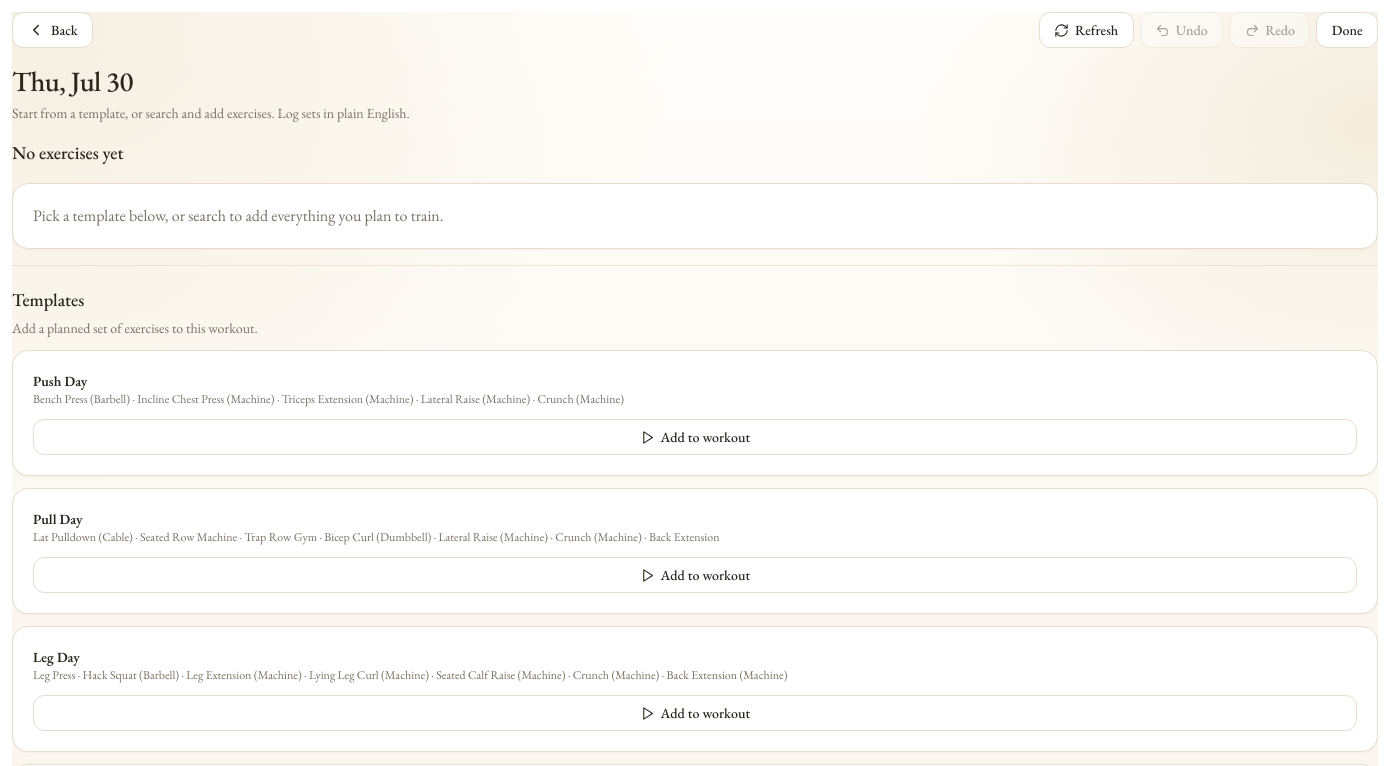
active session flow › applies an example template onto a past-day session
expect the text "Push Day" is shown: met, box [33,372,87,390]
Click the button "Add to workout" below "Push Day": (695, 437) [33,419,1357,455]
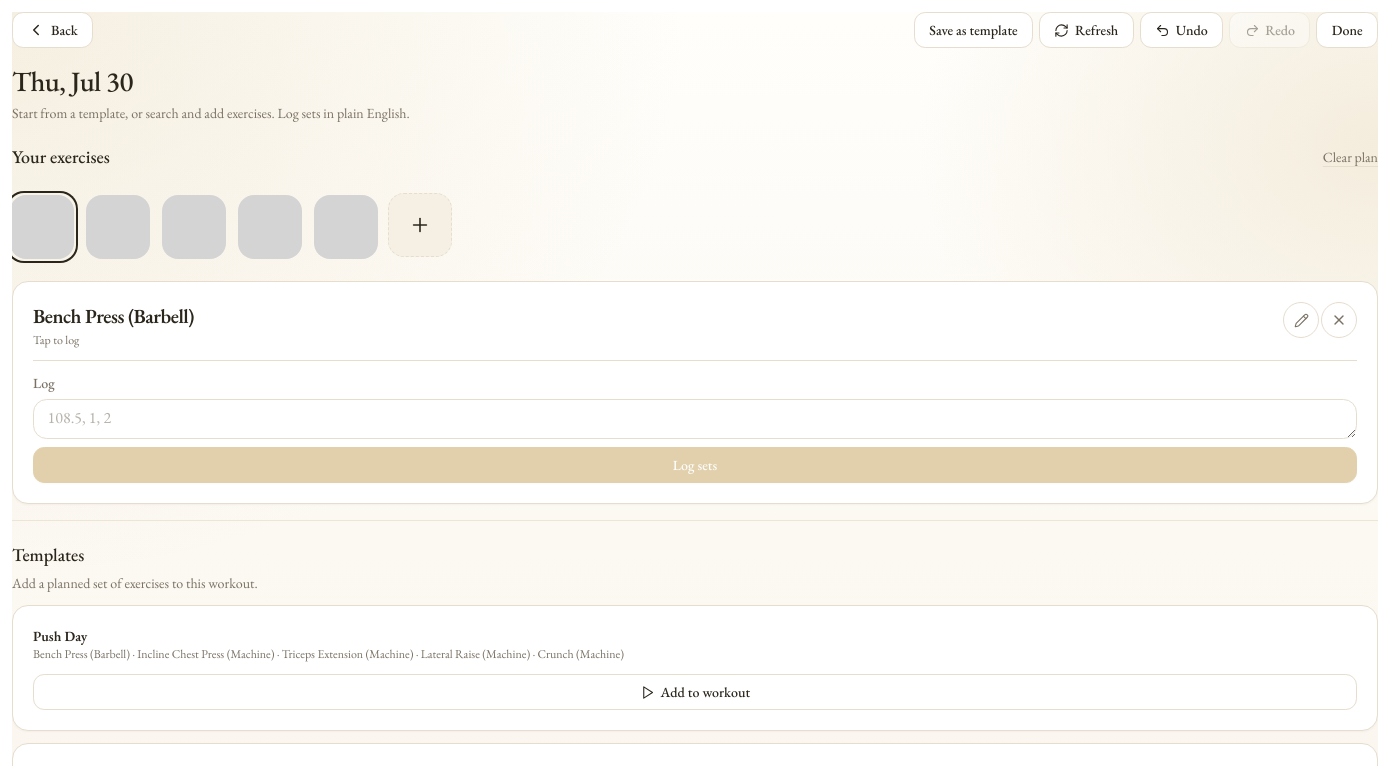
expect the heading "Your exercises" is shown: met, box [12,143,110,171]
